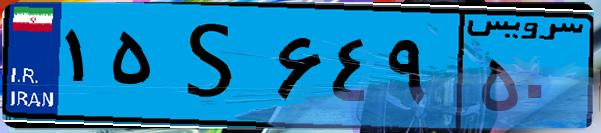0: (525, 38, 570, 115)
1: (57, 26, 110, 100)
4: (330, 28, 385, 110)
5: (475, 38, 525, 113), (110, 28, 158, 98)
6: (270, 28, 330, 110)
9: (385, 28, 445, 110)
S: (158, 12, 270, 120)
